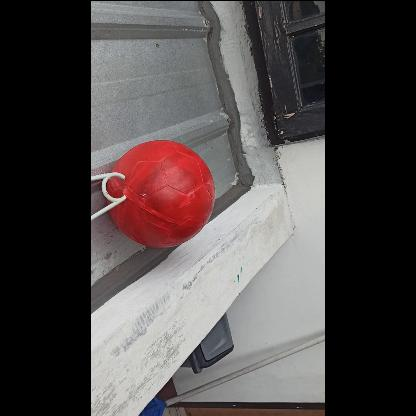red_ball: (107, 138, 215, 246)
